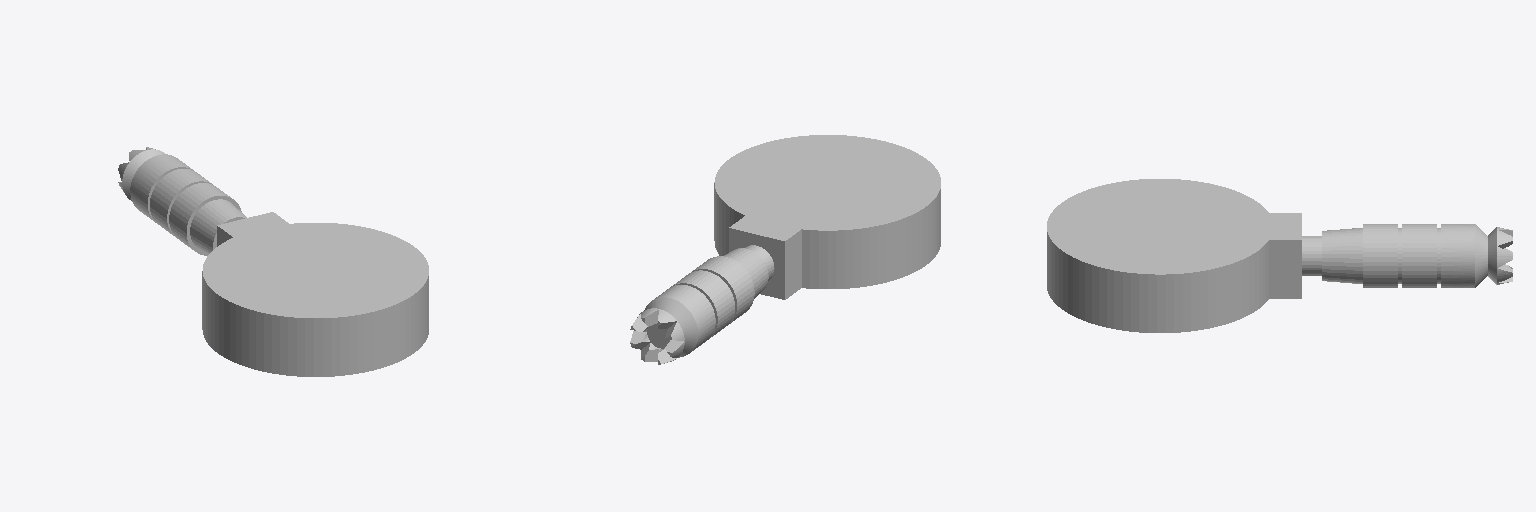
File: stick.obj
3 views of the same model, side by side, from view 1: azimuth 30°, elevation 25°; view 2: azimuth 150°, elevation 25°; view 3: azimuth 270°, elevation 25° (orthographic).
Parts seen in each view (by area): view 1: Stick; view 2: Stick; view 3: Stick.
Part boxes in pixels (left/top/right/bottom): Stick: left=118, top=147, right=428, bottom=376; Stick: left=630, top=135, right=940, bottom=364; Stick: left=1047, top=179, right=1512, bottom=332.
Size of the model in its own units: 27.99 by 8 by 57.57.